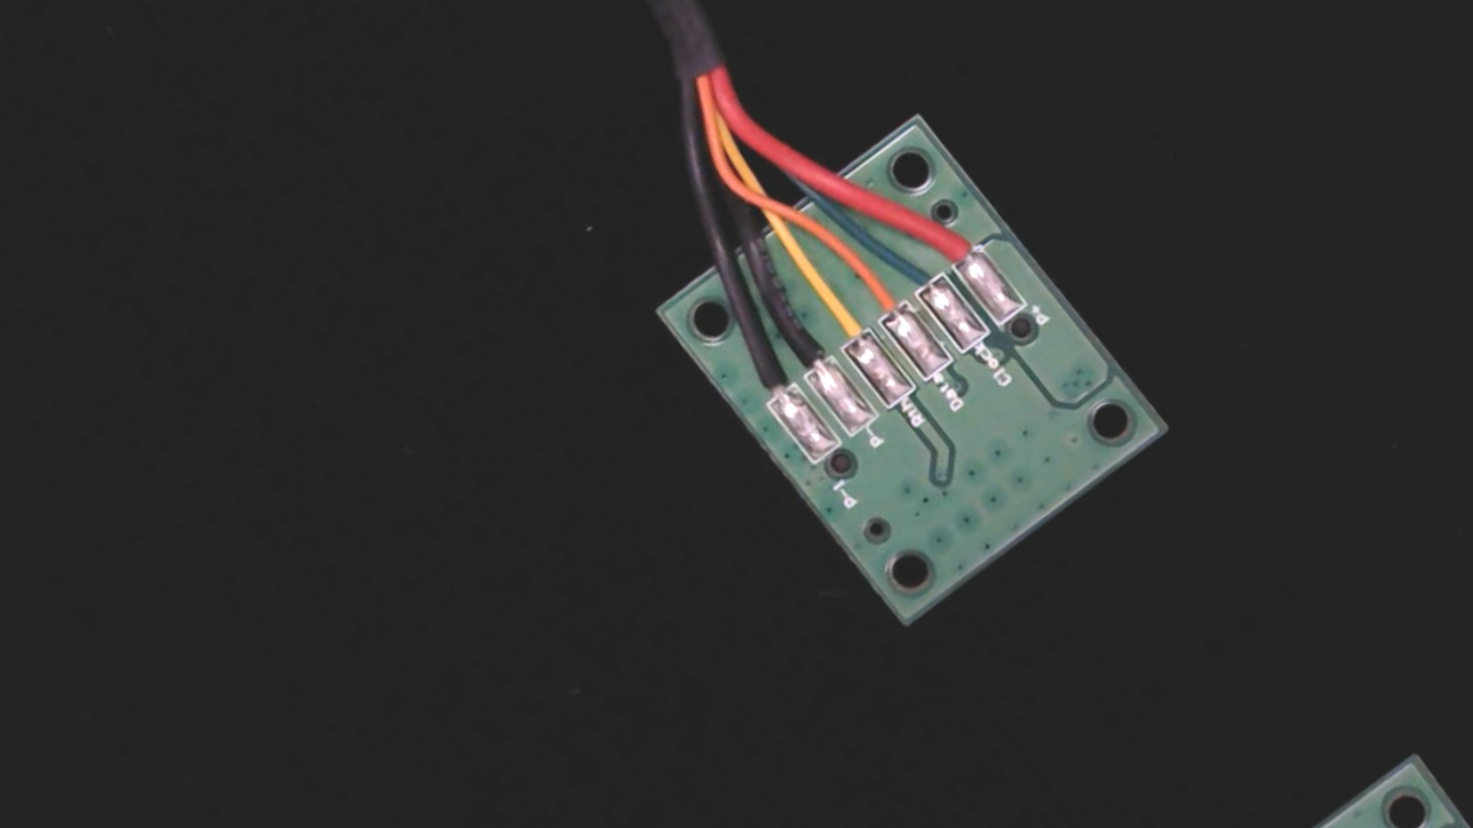Black: (758, 298, 845, 393)
Black1: (725, 338, 807, 427)
Green: (876, 226, 959, 314)
Orange: (834, 245, 920, 337)
Red: (908, 193, 993, 284)
Yellow: (795, 273, 883, 369)
